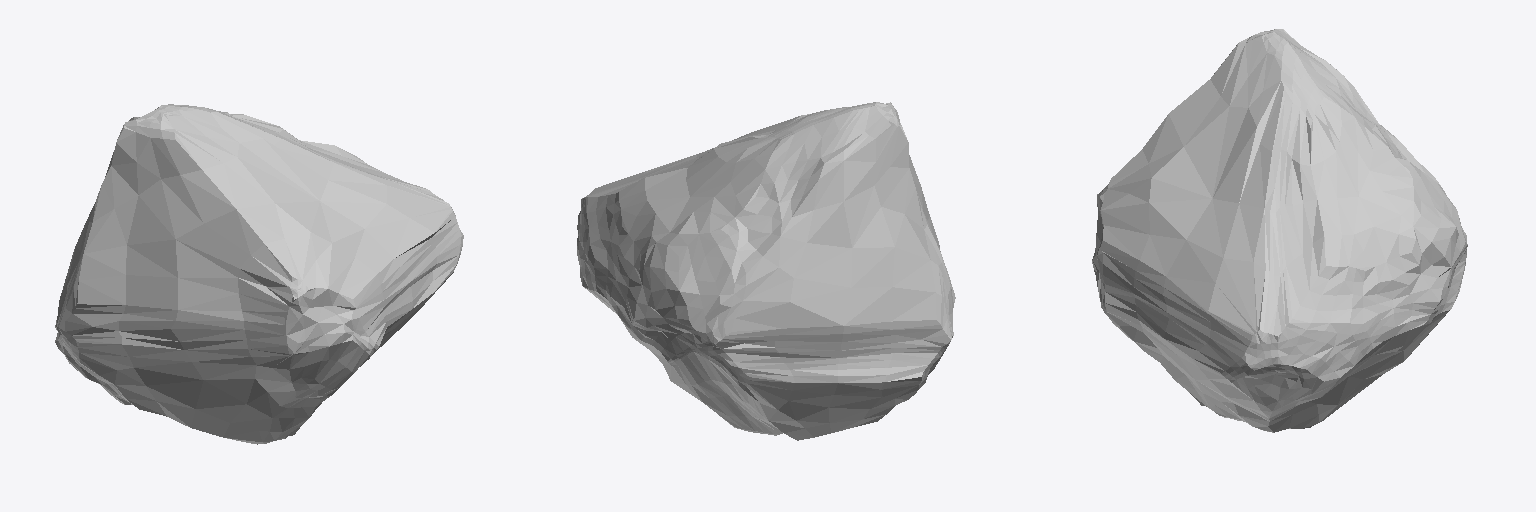
The model's file is Rock_05_Hite.OBJ.
3 renders of one model, left to right at view 1: azimuth 30°, elevation 25°; view 2: azimuth 150°, elevation 25°; view 3: azimuth 270°, elevation 25°, orthographic.
Visible parts, largest first — view 1: Group2; view 2: Group2; view 3: Group2.
Boxes of the visible parts, box(x1,y1,x2,y2) form: Group2: box(55, 104, 463, 444); Group2: box(577, 102, 955, 440); Group2: box(1092, 29, 1467, 432).
Size of the model in its own units: 18.6 by 16.04 by 15.73.